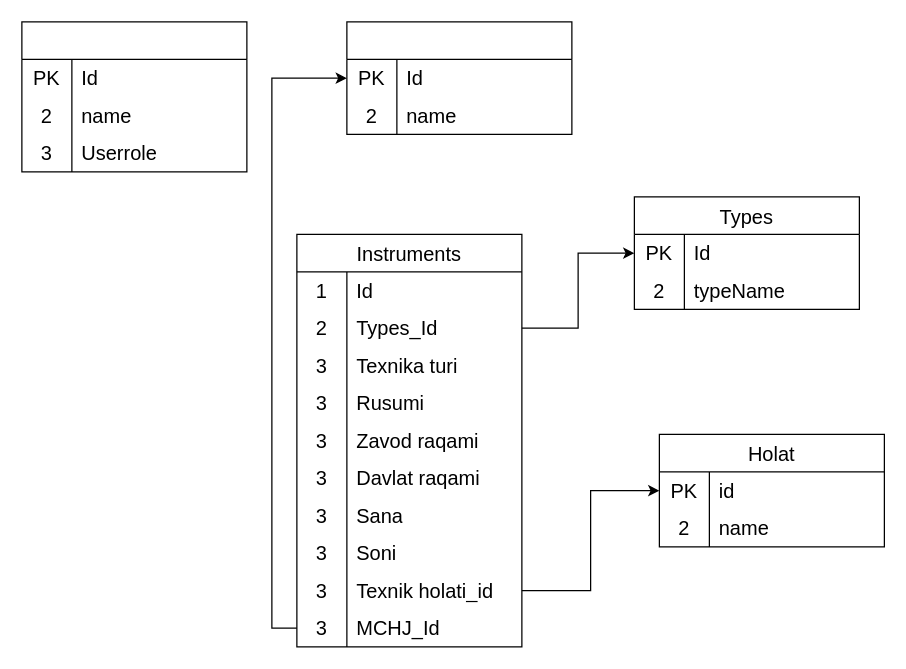
Some shapes in this 906 by 669 pixel diagram are drawn without their labels. Here are the shapes that lost their labels. From the top down, the box of each, then its label:
(21, 21, 247, 172): Users
(346, 21, 572, 134): MCHJ
